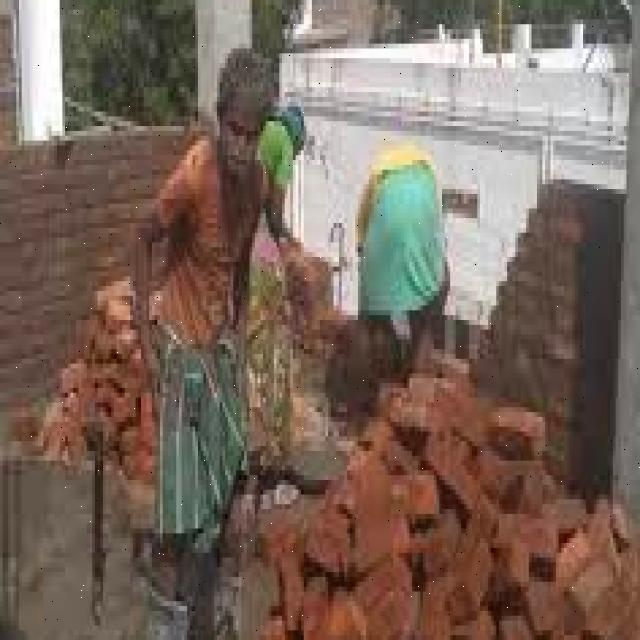Masonary: (0, 87, 545, 640)
